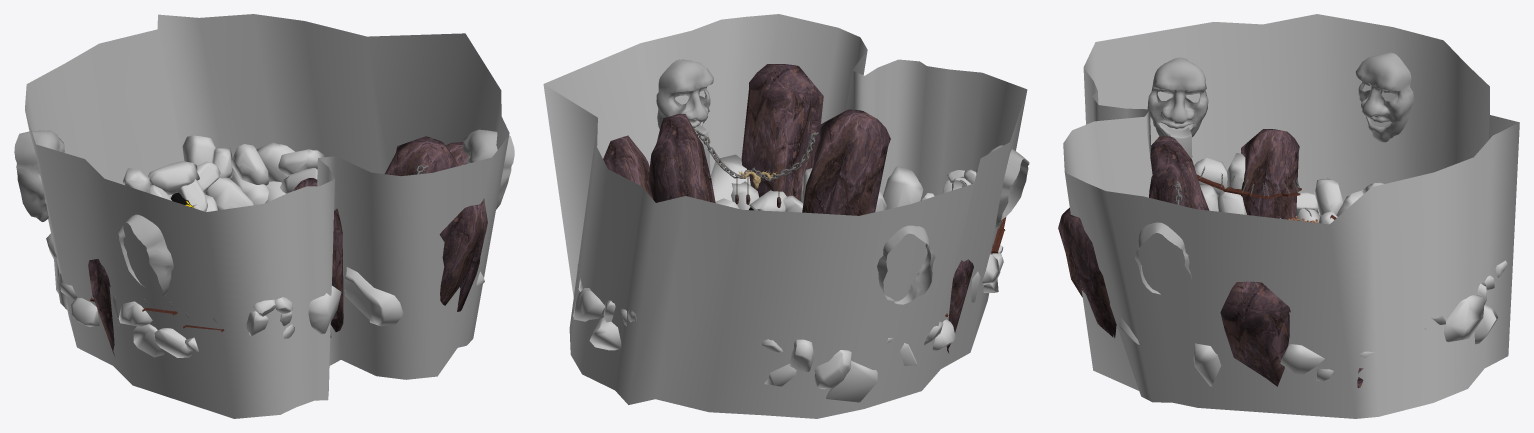
The model's file is MapFullREexpo 1.fbx.
The picture shows the model from 3 angles, left to right: view 1: azimuth 30°, elevation 25°; view 2: azimuth 150°, elevation 25°; view 3: azimuth 270°, elevation 25°; orthographic projection. The views are drawn at different scales.
Visible parts, largest first — view 1: WallBG62, RockPillar17, pasted__HeadStat2, RockPillar3, polySurface21, pasted__HeadStat, pasted__HeadStat1, RockPillar2, RockPillar1, RockWall104, RockWall201, RockWall463 (+14 smaller); view 2: WallBG62, RockPillar17, RockPillar2, RockPillar3, pasted__HeadStat1, pasted__HeadStat2, RockPillar18, pasted__HeadStat, polySurface18, RockWall484, RockWall198, polySurface43 (+8 smaller); view 3: WallBG62, RockPillar18, RockPillar1, pasted__HeadStat2, pasted__HeadStat, RockPillar17, RockPillar2, RockWall124, pasted__HeadStat1, RockWall, RockWall105, RockWall453 (+4 smaller).
Part boxes in pixels (box(x1,y1,x2,y2)): WallBG62: box(25, 14, 509, 418); RockPillar17: box(439, 198, 487, 311); pasted__HeadStat2: box(14, 130, 64, 221); RockPillar3: box(385, 136, 458, 175); polySurface21: box(344, 267, 403, 326); pasted__HeadStat: box(118, 214, 173, 296); pasted__HeadStat1: box(462, 129, 514, 209); RockPillar2: box(293, 178, 343, 331); RockPillar1: box(88, 259, 114, 356); RockWall104: box(148, 161, 199, 196); RockWall201: box(232, 144, 269, 185); RockWall463: box(204, 177, 253, 210); WallBG62: box(543, 14, 1027, 418); RockPillar17: box(741, 64, 823, 200); RockPillar2: box(802, 109, 890, 215); RockPillar3: box(648, 113, 715, 202); pasted__HeadStat1: box(656, 59, 713, 129); pasted__HeadStat2: box(877, 225, 935, 304); RockPillar18: box(603, 135, 653, 199); pasted__HeadStat: box(976, 145, 1029, 229); polySurface18: box(694, 129, 818, 207); RockWall484: box(883, 166, 923, 209); RockWall198: box(826, 360, 877, 402); polySurface43: box(710, 154, 750, 201); WallBG62: box(1063, 14, 1519, 418); RockPillar18: box(1220, 281, 1290, 386); RockPillar1: box(1241, 129, 1299, 219); pasted__HeadStat2: box(1355, 52, 1413, 142); pasted__HeadStat: box(1147, 57, 1208, 137); RockPillar17: box(1058, 208, 1116, 338); RockPillar2: box(1149, 136, 1209, 210); RockWall124: box(1444, 295, 1484, 342); pasted__HeadStat1: box(1135, 222, 1191, 294); RockWall: box(1280, 344, 1324, 374); RockWall105: box(1314, 178, 1343, 215); RockWall453: box(1193, 343, 1221, 386).
Size of the model in its own units: 3328 by 1664 by 3087.
